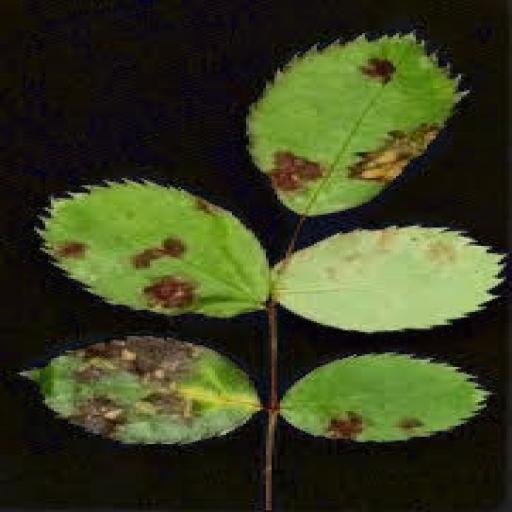downy_mildew: (249, 35, 461, 214), (40, 182, 268, 317), (23, 336, 260, 444), (275, 226, 503, 332), (281, 353, 486, 442)
